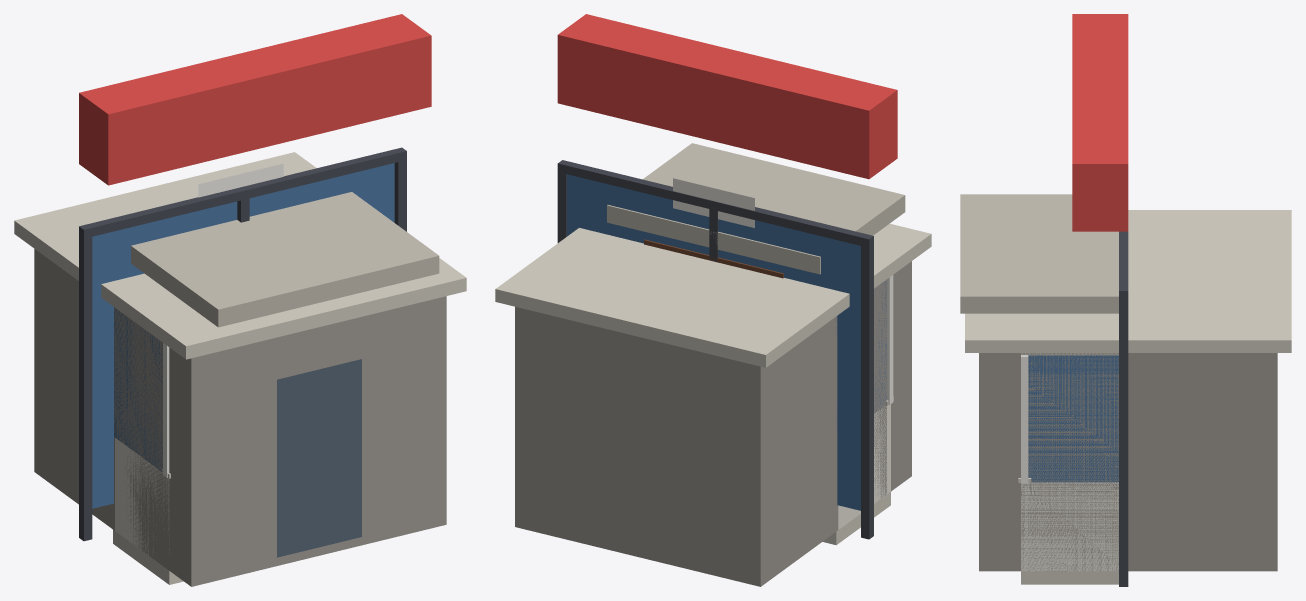
File: details.glb
The picture shows the model from 3 angles, left to right: view 1: azimuth 30°, elevation 25°; view 2: azimuth 150°, elevation 25°; view 3: azimuth 270°, elevation 25°; orthographic projection. The views are drawn at different scales.
Visible parts, largest first — view 1: roof_hut, shopfront, entrance, balcony_closed; view 2: roof_hut, shopfront, entrance, balcony_closed; view 3: roof_hut, balcony_closed, entrance, shopfront.
Part boxes in pixels (<box>): roof_hut: <box>14,152,466,586</box>; shopfront: <box>79,14,431,541</box>; entrance: <box>131,163,439,327</box>; balcony_closed: <box>113,307,183,584</box>; roof_hut: <box>495,223,931,586</box>; shopfront: <box>557,14,897,539</box>; entrance: <box>607,143,905,278</box>; balcony_closed: <box>822,275,893,545</box>; roof_hut: <box>965,210,1291,571</box>; balcony_closed: <box>1018,353,1118,584</box>; entrance: <box>960,194,1118,313</box>; shopfront: <box>1072,14,1128,586</box>.
Bounding box in the file's own units: 3.8 × 5.4 × 3.55.
